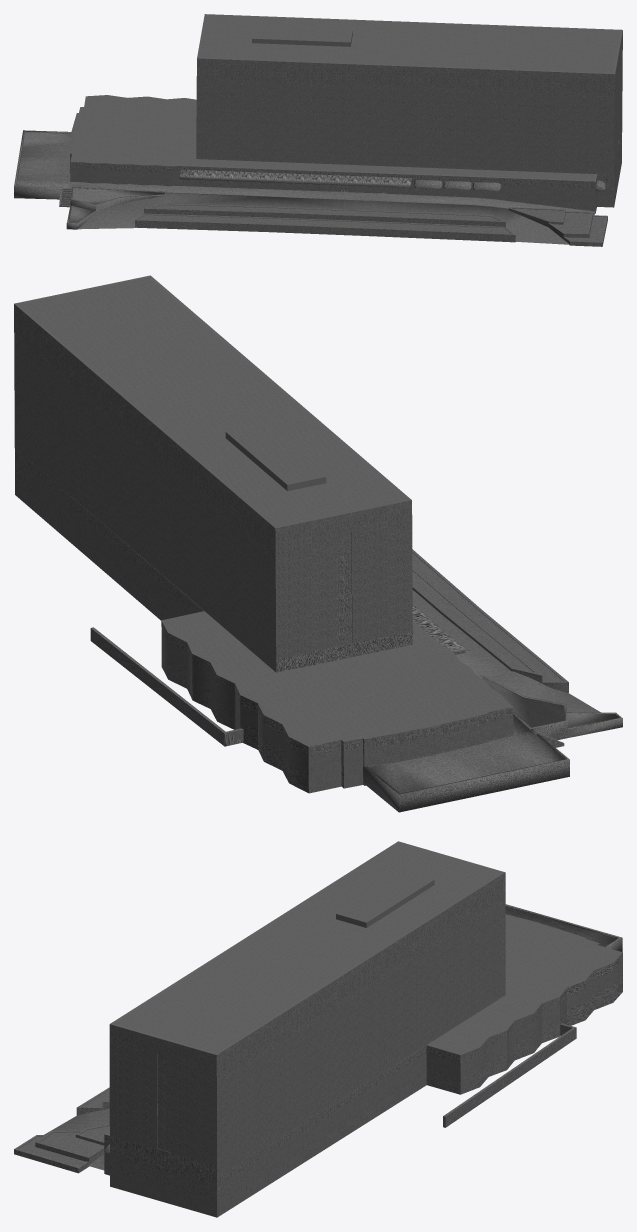
File: Hallituskatu_1_hotel.fbx
3 renders of one model, top to bottom at view 1: azimuth 30°, elevation 25°; view 2: azimuth 150°, elevation 25°; view 3: azimuth 270°, elevation 25°, orthographic. The views are drawn at different scales.
Parts seen in each view (by area): view 1: Rantakatu_1_hotel; view 2: Rantakatu_1_hotel; view 3: Rantakatu_1_hotel.
Part boxes in pixels (x1,y1,x2,y2): Rantakatu_1_hotel: (14,14,622,246); Rantakatu_1_hotel: (14,275,622,812); Rantakatu_1_hotel: (14,841,622,1217).
Size of the model in its own units: 10632 by 2856 by 9187.
5 materials, 5 textured.
